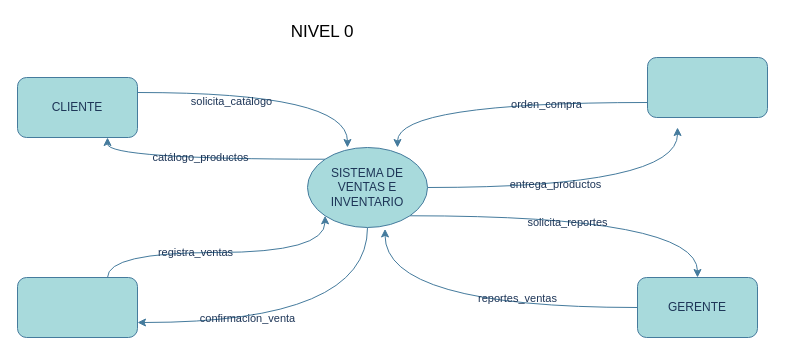
The diagram is 785 pixels wide and 355 high, and some of its shapes have lost their labels. The shapes that lost their labels are listed below. From the top down, each one's centre as x and y in pixels, then its label:
At point (707, 87): "PROVEEDOR".
At point (77, 307): "EMPLEADO".
